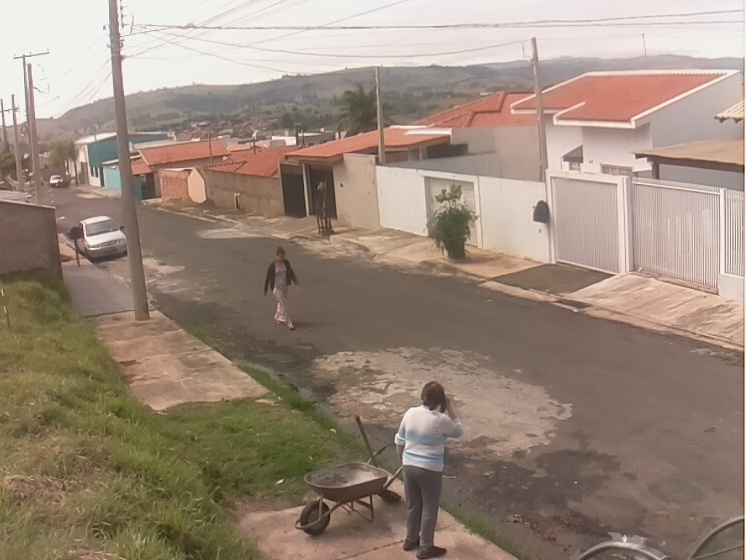person: (394, 380, 464, 560), (263, 247, 299, 330)
